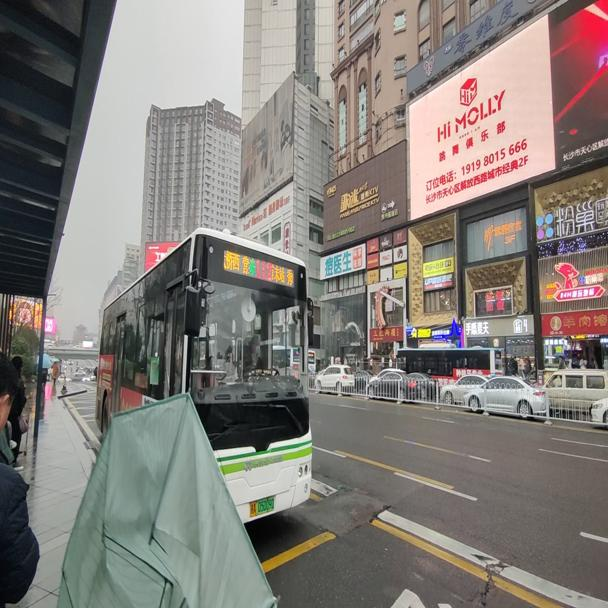bus: (95, 225, 314, 538)
screen: (256, 256, 272, 281)
